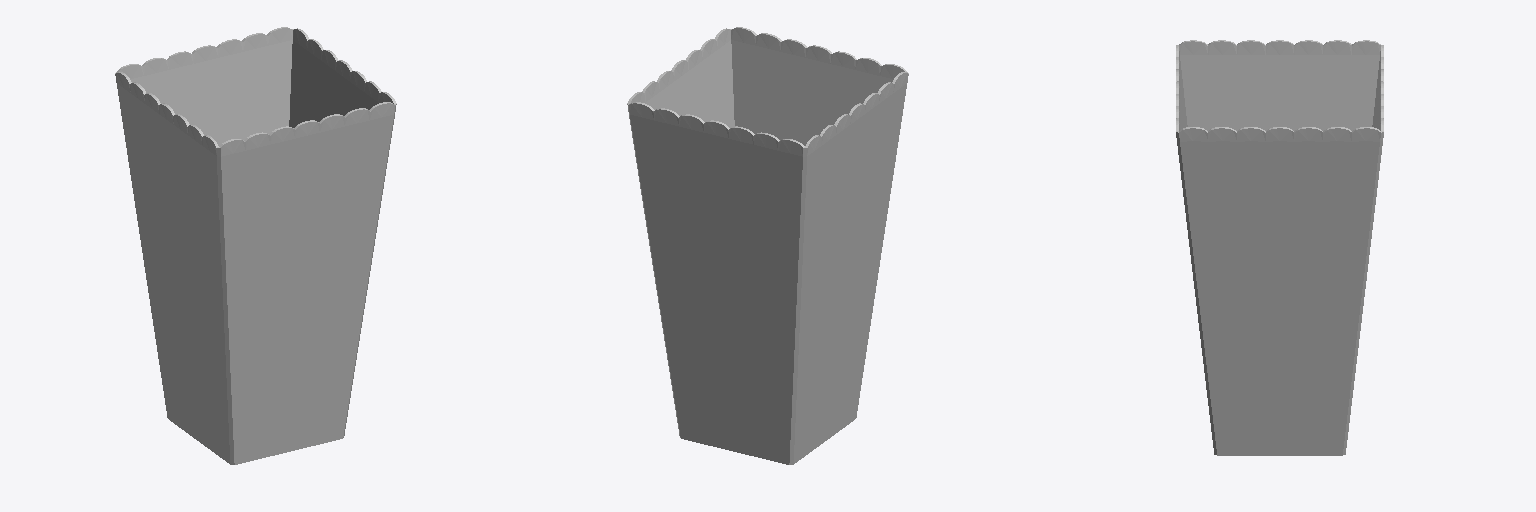
File: popcorn.obj
The picture shows the model from 3 angles: view 1: azimuth 30°, elevation 25°; view 2: azimuth 150°, elevation 25°; view 3: azimuth 270°, elevation 25°; orthographic projection.
Parts seen in each view (by area): view 1: defaultMaterial; view 2: defaultMaterial; view 3: defaultMaterial.
Part boxes in pixels (left/top/right/bottom): defaultMaterial: left=115, top=27, right=396, bottom=464; defaultMaterial: left=627, top=27, right=908, bottom=464; defaultMaterial: left=1176, top=40, right=1383, bottom=455.
Bounding box in the file's own units: 0.2072 × 0.3772 × 0.2072.